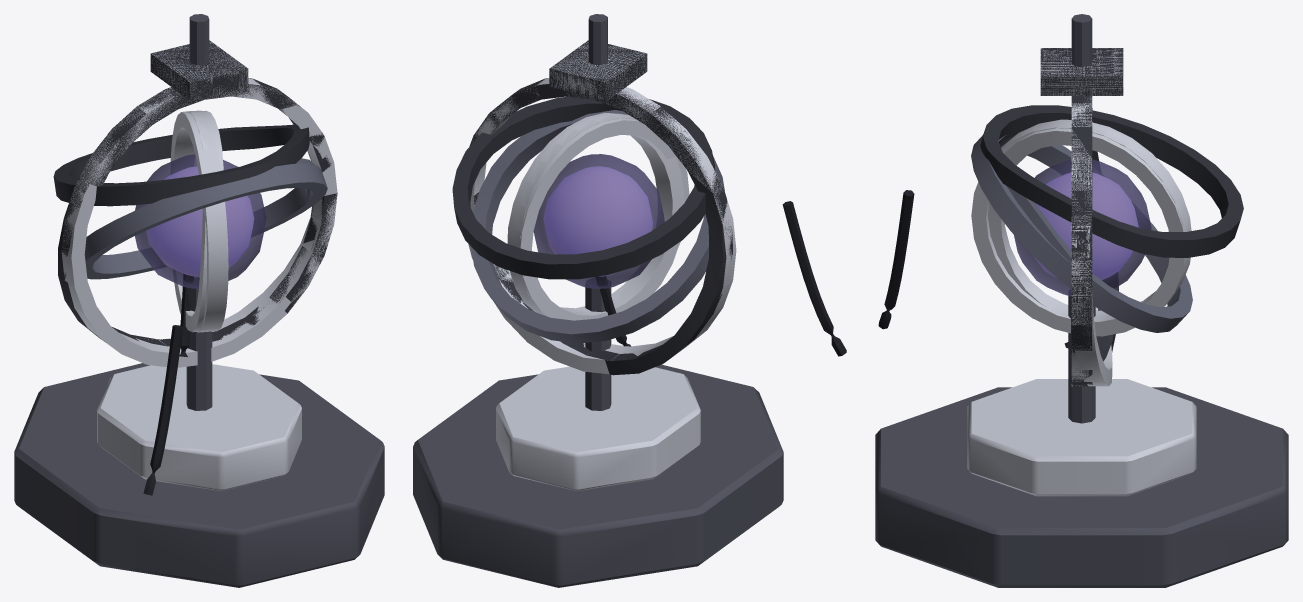
Rendered from mrd_cmp_quantum_stabilizer_a.glb.
3 renders of one model, left to right at view 1: azimuth 30°, elevation 25°; view 2: azimuth 150°, elevation 25°; view 3: azimuth 270°, elevation 25°, orthographic. The views are drawn at different scales.
Parts seen in each view (by area): view 1: mesh_heavy, mesh_intact, mesh_light; view 2: mesh_heavy, mesh_intact, mesh_light; view 3: mesh_heavy, mesh_intact, mesh_light.
Part boxes in pixels (left/top/right/bottom): mesh_heavy: left=14, top=14, right=384, bottom=587; mesh_intact: left=14, top=14, right=384, bottom=587; mesh_light: left=62, top=78, right=337, bottom=347; mesh_heavy: left=413, top=14, right=846, bottom=587; mesh_intact: left=413, top=14, right=783, bottom=586; mesh_light: left=468, top=78, right=736, bottom=472; mesh_heavy: left=875, top=14, right=1288, bottom=587; mesh_intact: left=875, top=14, right=1288, bottom=587; mesh_light: left=988, top=103, right=1196, bottom=491.
Size of the model in its own units: 0.5129 by 0.8 by 0.6.
